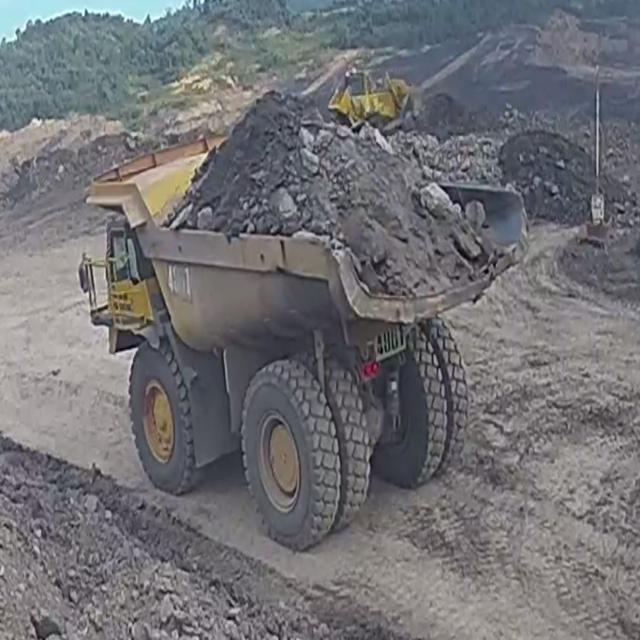dump_truck: (71, 127, 534, 553)
